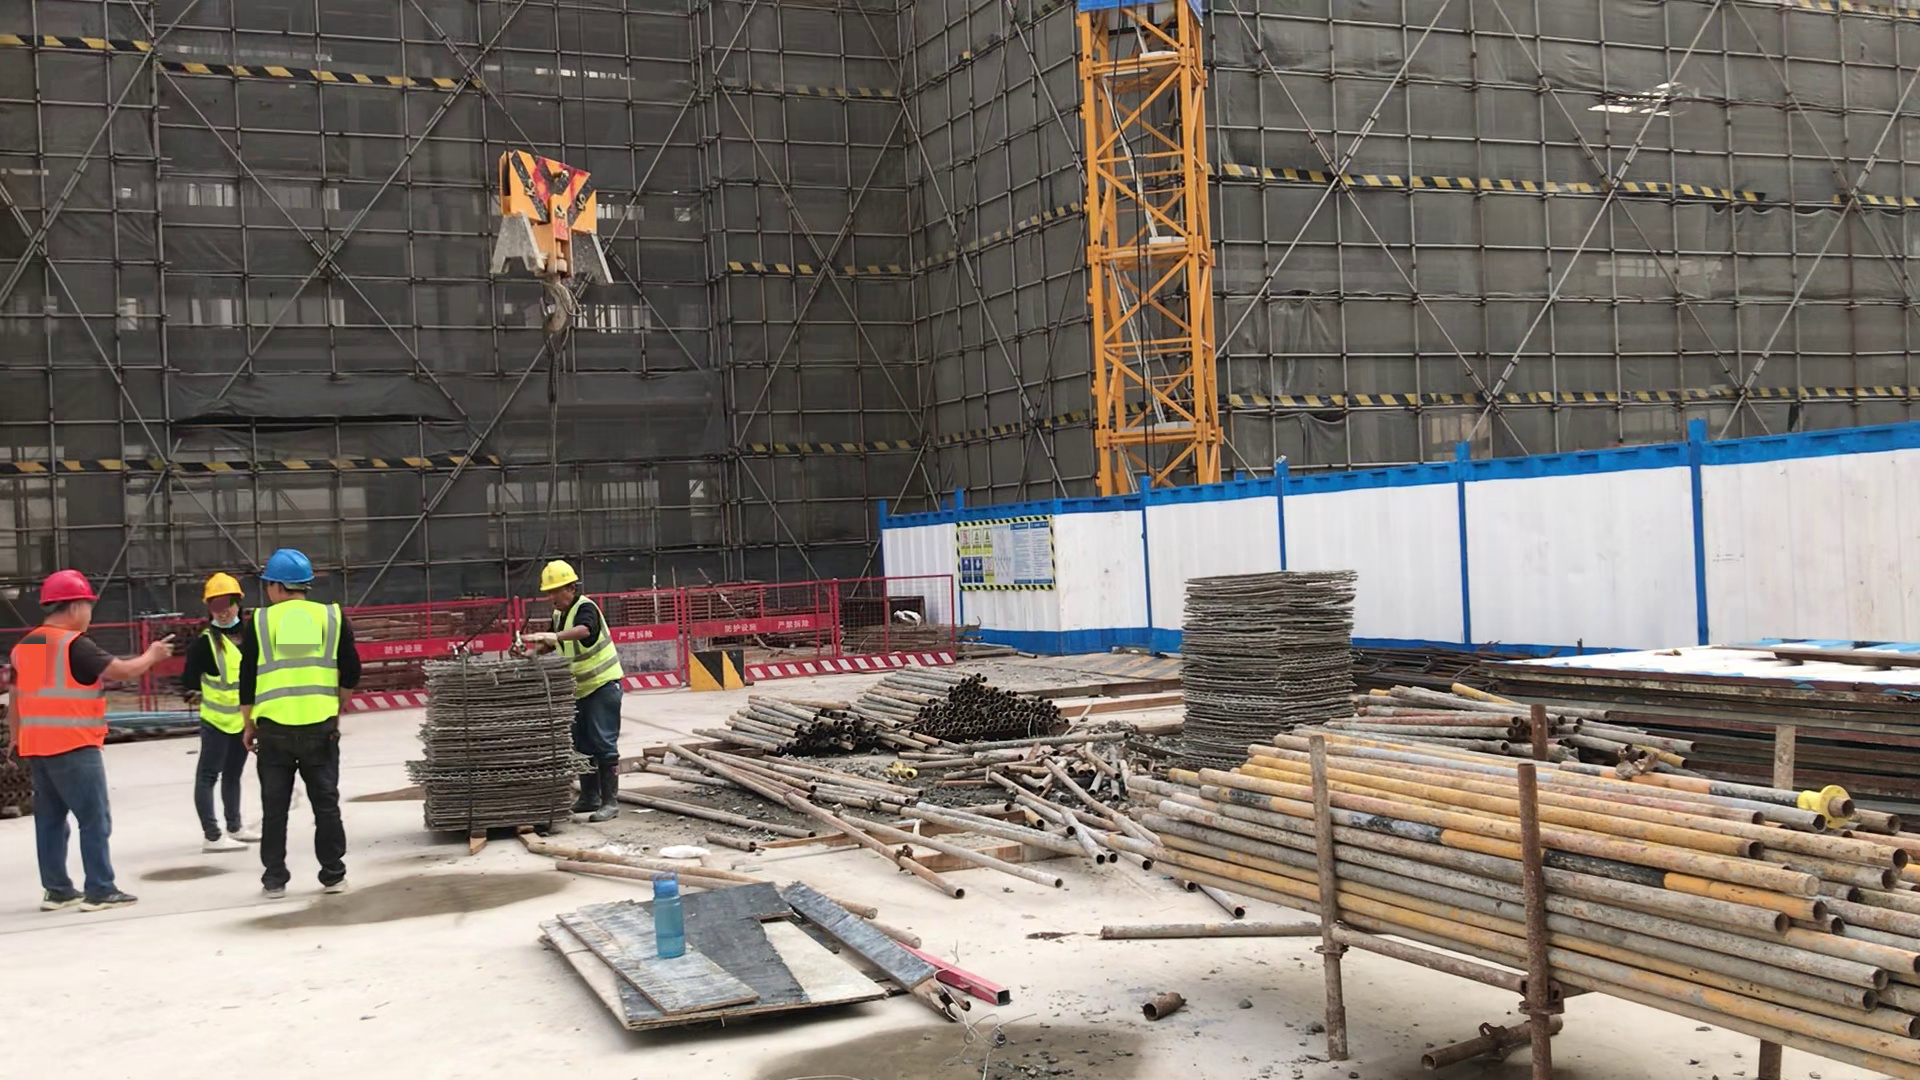fence: (755, 574, 962, 669), (356, 600, 422, 719), (622, 589, 688, 694)
helmet: (34, 571, 101, 606), (263, 549, 314, 593), (537, 562, 580, 590), (200, 573, 245, 600)
hook: (492, 150, 625, 350)
person: (12, 567, 177, 913), (240, 543, 355, 902), (534, 558, 628, 822), (185, 571, 262, 860)
scaffold: (1123, 720, 1917, 1080), (857, 662, 1072, 741), (690, 694, 895, 762)
slogan: (958, 522, 1053, 589)
vest: (19, 625, 111, 760), (252, 600, 342, 726), (550, 600, 622, 695), (198, 626, 245, 736)
